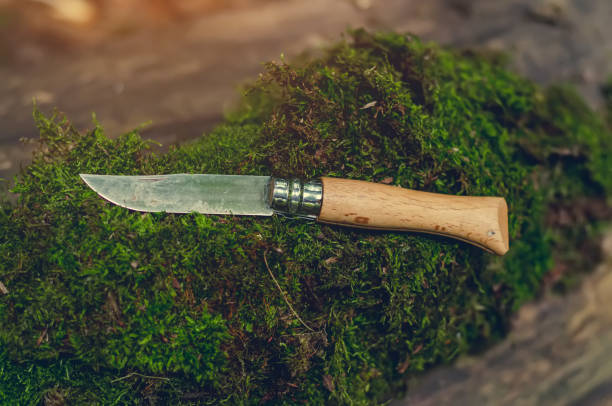knife: (75, 171, 512, 257)
